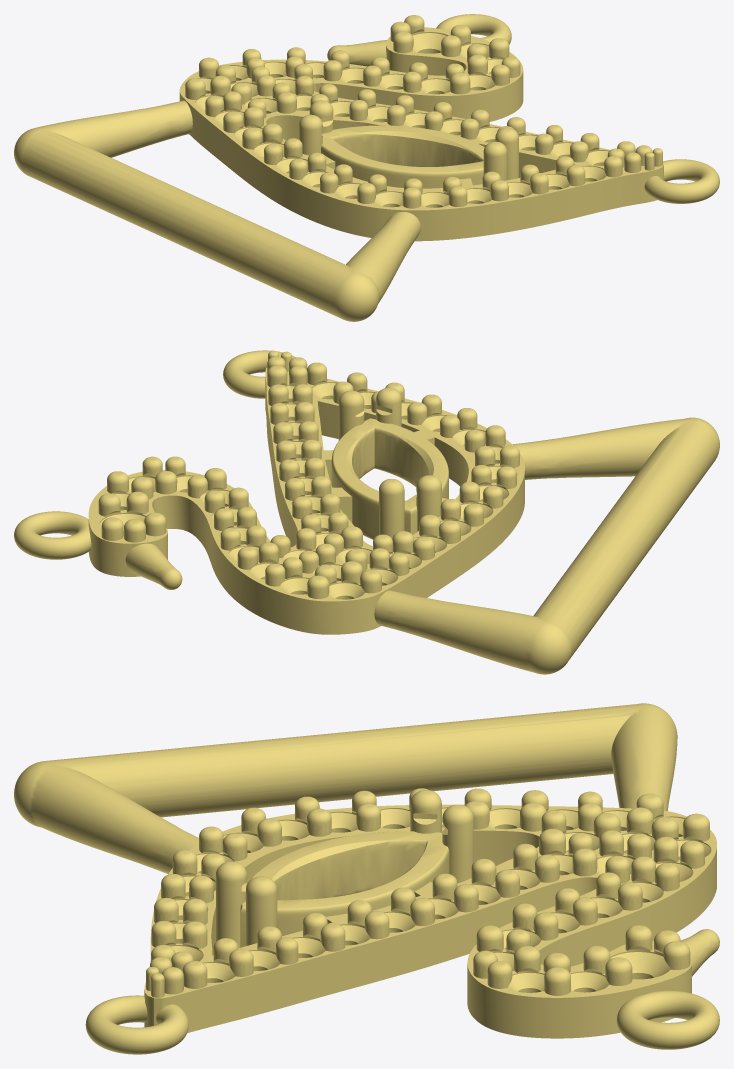
Rendered from serdar_abi.glb.
The picture shows the model from 3 angles, top to bottom: view 1: azimuth 30°, elevation 25°; view 2: azimuth 150°, elevation 25°; view 3: azimuth 270°, elevation 25°; orthographic projection. The views are drawn at different scales.
Visible parts, largest first — view 1: Renderer Node; view 2: Renderer Node; view 3: Renderer Node.
Part boxes in pixels (bbox=[...]): Renderer Node: bbox=[14, 14, 719, 321]; Renderer Node: bbox=[14, 350, 719, 674]; Renderer Node: bbox=[14, 703, 719, 1054].
Size of the model in its own units: 17.21 by 2.39 by 15.73.
